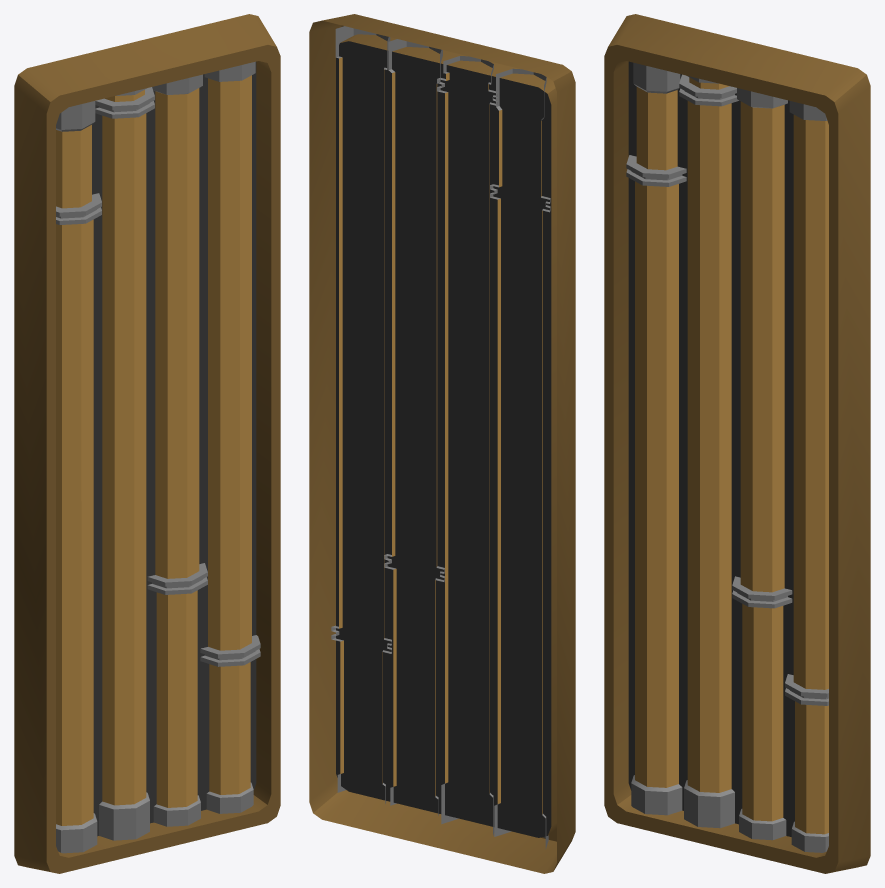
Rendered from Details_Pipes_Long.gltf.
3 renders of one model, left to right at view 1: azimuth 30°, elevation 25°; view 2: azimuth 150°, elevation 25°; view 3: azimuth 330°, elevation 25°, orthographic.
Visible parts, largest first — view 1: Details_Pipes_Long; view 2: Details_Pipes_Long; view 3: Details_Pipes_Long.
Boxes of the visible parts, x1=… form: Details_Pipes_Long: x1=14, y1=14, x2=280, y2=873; Details_Pipes_Long: x1=309, y1=14, x2=575, y2=873; Details_Pipes_Long: x1=604, y1=14, x2=870, y2=873.
Size of the model in its own units: 0.5143 by 1.58 by 0.0932.
